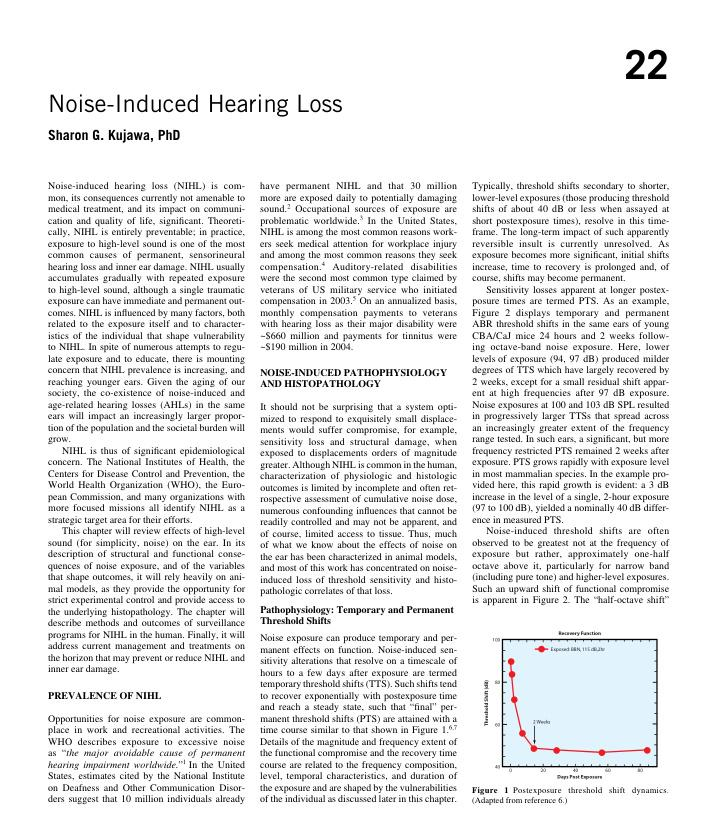caption: (471, 785, 670, 806)
chapter-heading: (48, 90, 344, 119)
image: (474, 625, 668, 783)
section-heading: (259, 367, 448, 388), (46, 689, 162, 701)
sub-section-heading: (258, 604, 455, 625)
text: (46, 179, 247, 677), (470, 178, 672, 607), (258, 400, 457, 597), (258, 632, 458, 805), (259, 180, 458, 352), (46, 712, 246, 806)
